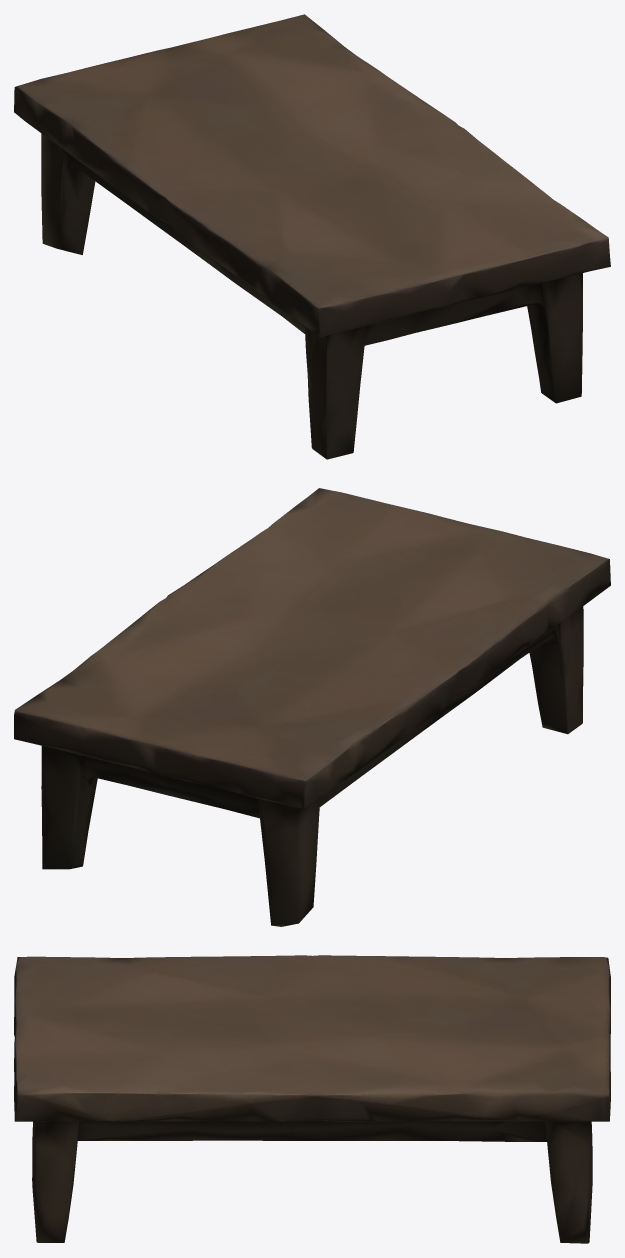
Rendered from low_table_plank.glb.
3 renders of one model, top to bottom at view 1: azimuth 30°, elevation 25°; view 2: azimuth 150°, elevation 25°; view 3: azimuth 270°, elevation 25°, orthographic. The views are drawn at different scales.
Visible parts, largest first — view 1: tripo_node_a557a27d-80b2-4938-a9b6-c8dc57eff880; view 2: tripo_node_a557a27d-80b2-4938-a9b6-c8dc57eff880; view 3: tripo_node_a557a27d-80b2-4938-a9b6-c8dc57eff880.
Part boxes in pixels (<box>): tripo_node_a557a27d-80b2-4938-a9b6-c8dc57eff880: <box>14,14,610,459</box>; tripo_node_a557a27d-80b2-4938-a9b6-c8dc57eff880: <box>14,488,610,926</box>; tripo_node_a557a27d-80b2-4938-a9b6-c8dc57eff880: <box>14,955,610,1243</box>.
Bounding box in the file's own units: 0.5573 × 0.293 × 1.
1 material, 1 textured.
